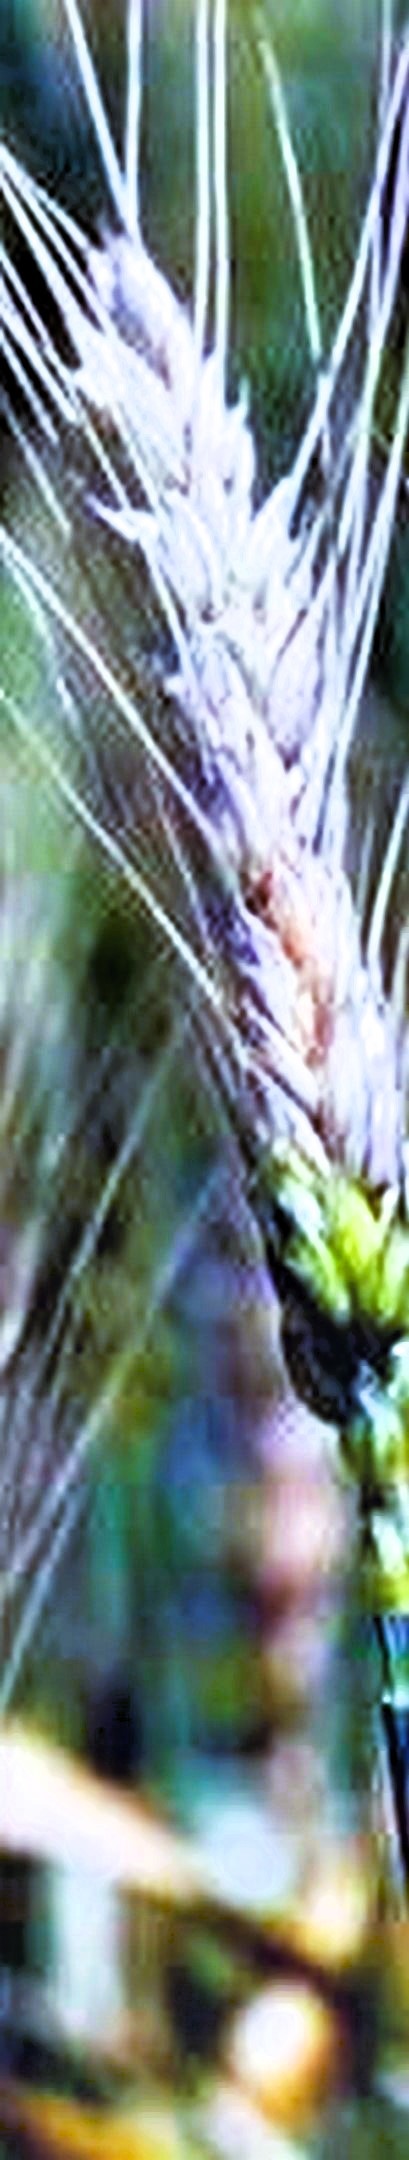Wheat scab: (41, 256, 409, 1479)
